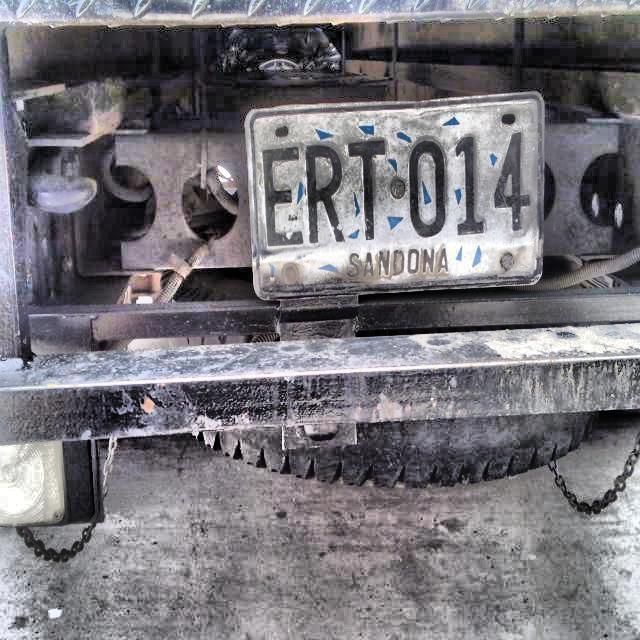plate: (250, 99, 538, 293)
